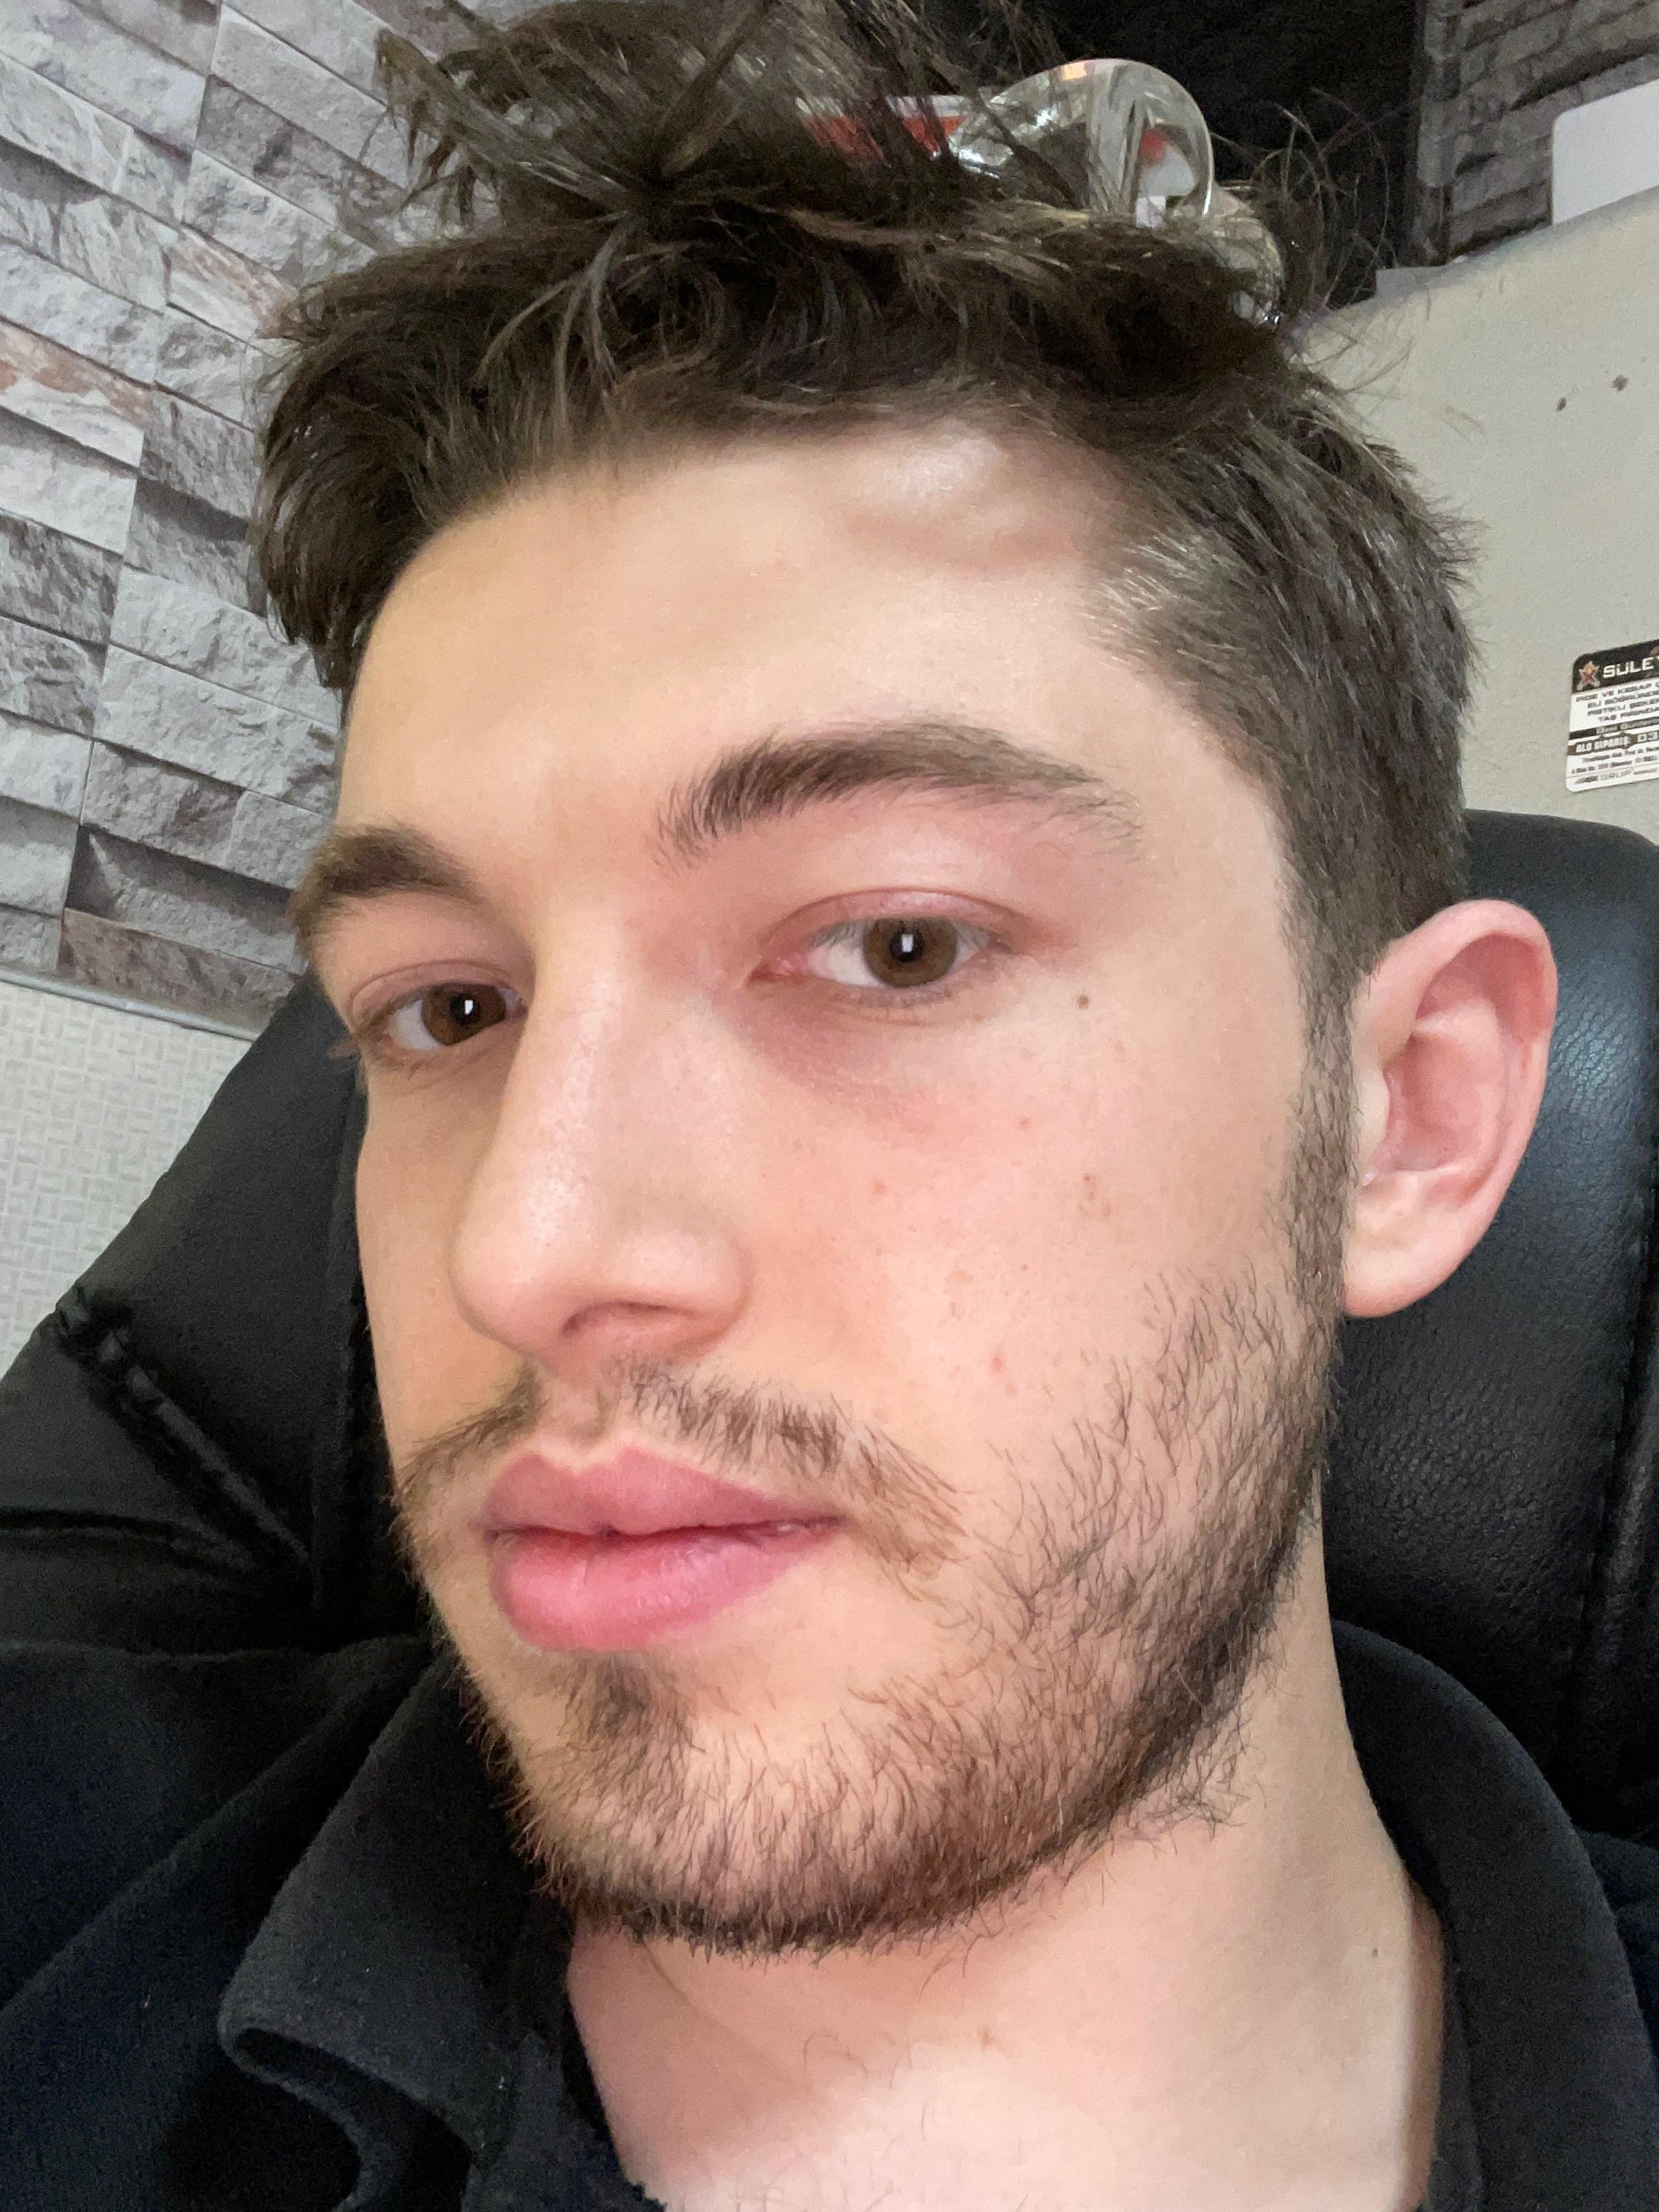Acne: (983, 1348, 1021, 1404), (1077, 1165, 1105, 1233), (864, 1177, 894, 1198)
Eyebags: (711, 958, 1066, 1136)
